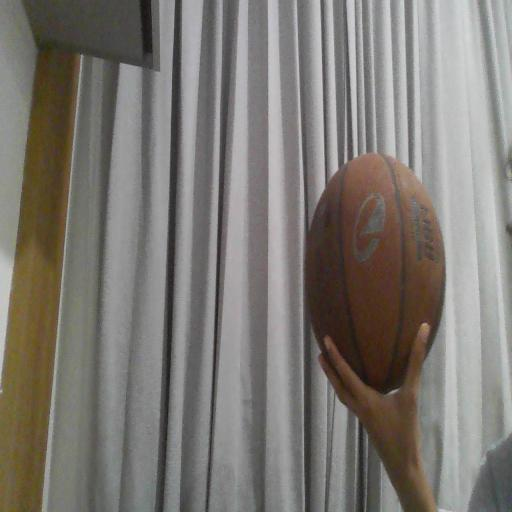basketball: (306, 154, 445, 392)
